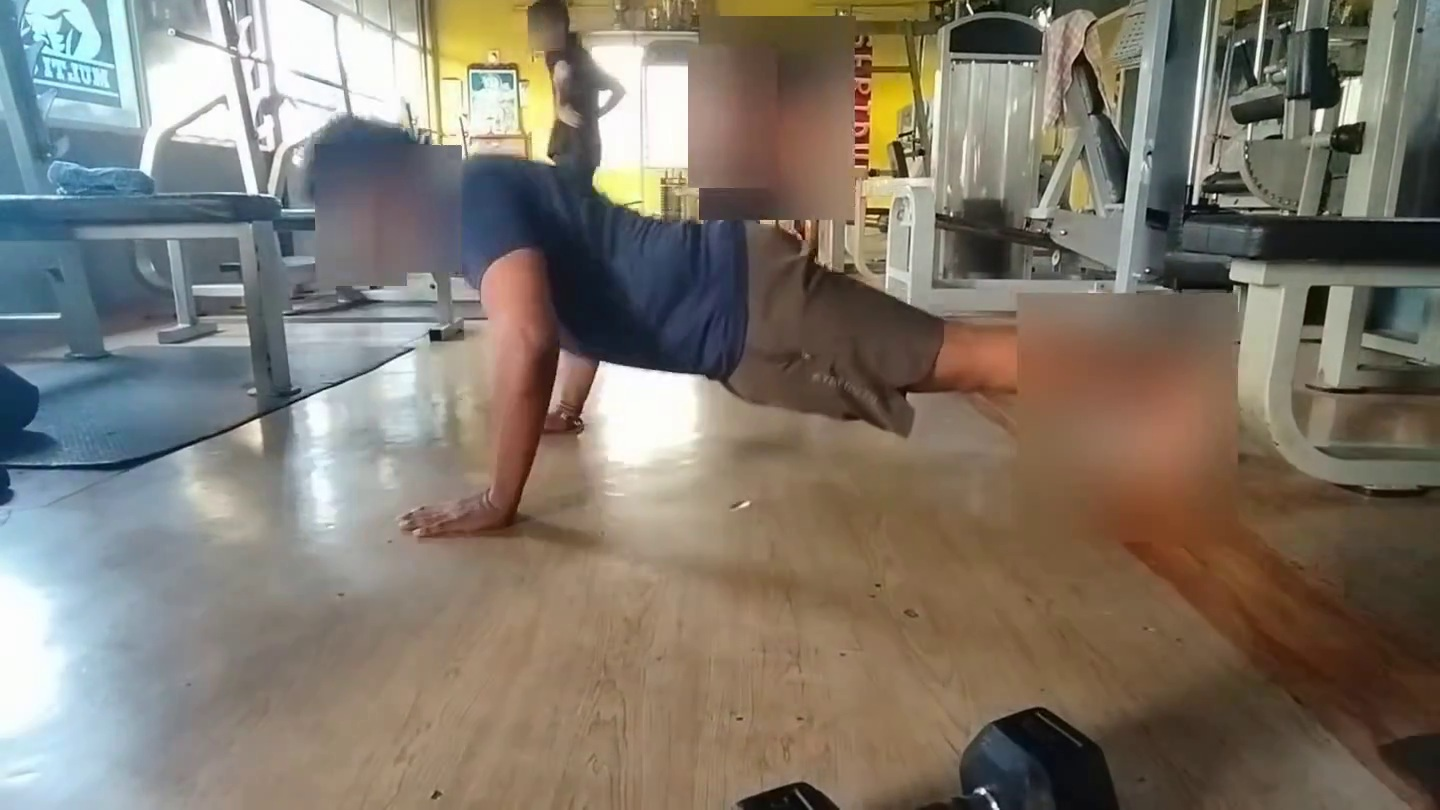push_up: (279, 114, 1212, 597)
